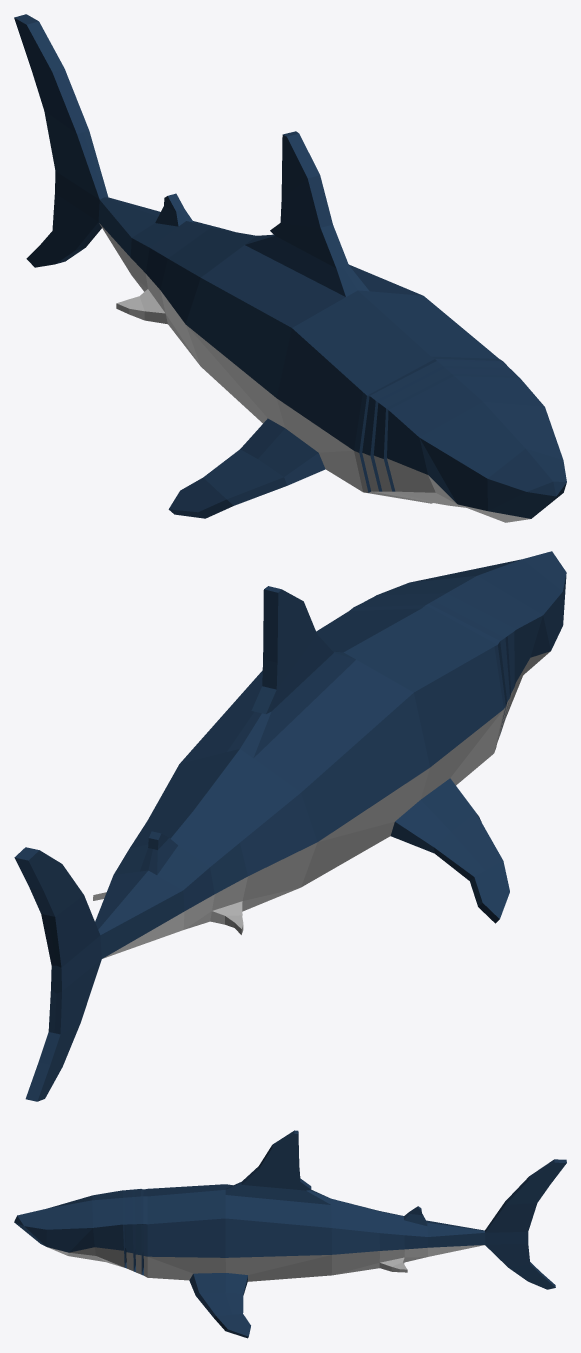
Rendered from Shark.obj.
3 views of the same model, one above another, from view 1: azimuth 30°, elevation 25°; view 2: azimuth 150°, elevation 25°; view 3: azimuth 270°, elevation 25° (orthographic). The views are drawn at different scales.
Visible parts, largest first — view 1: Shark_Cylinder; view 2: Shark_Cylinder; view 3: Shark_Cylinder.
Part boxes in pixels (x1,y1,x2,y2): Shark_Cylinder: (14, 14, 566, 522); Shark_Cylinder: (14, 551, 566, 1101); Shark_Cylinder: (14, 1130, 566, 1338).
Size of the model in its own units: 5.92 by 5.19 by 15.85.
